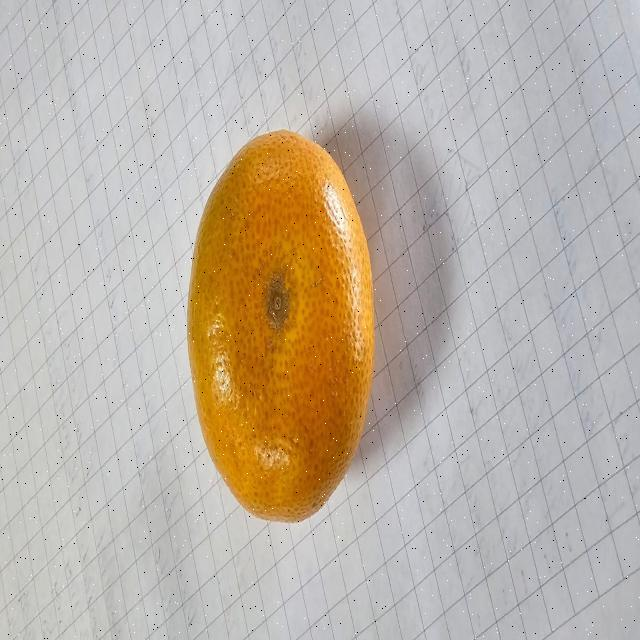Jeruk Mandarin: (179, 122, 381, 526)
